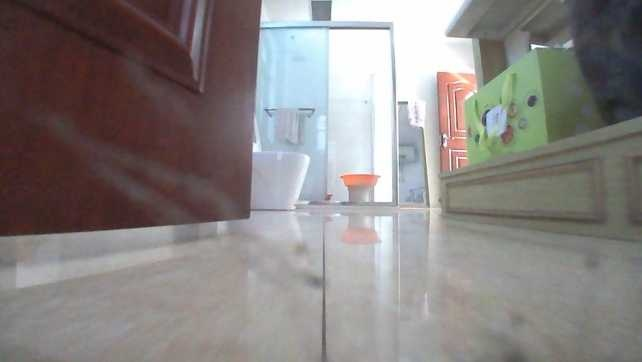toilet: (252, 109, 313, 209)
